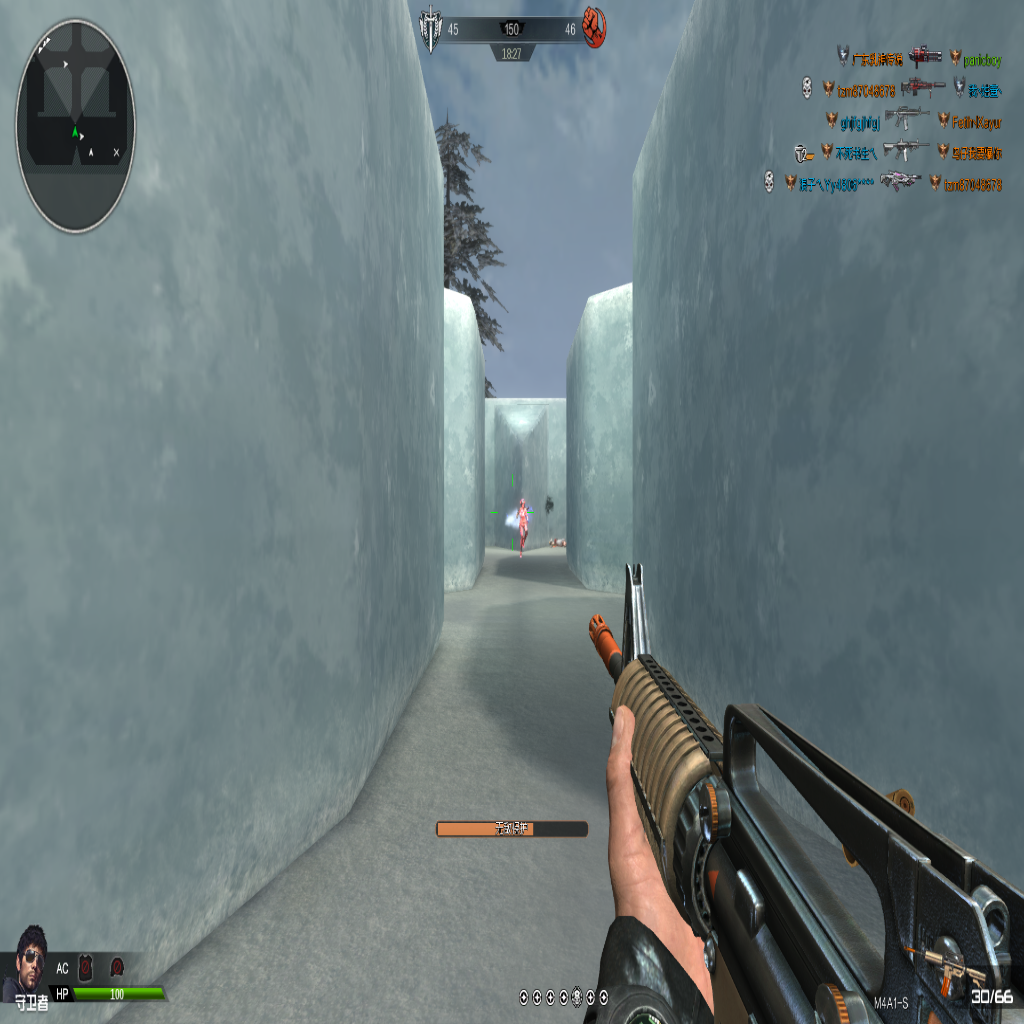tt: (516, 497, 530, 558)
